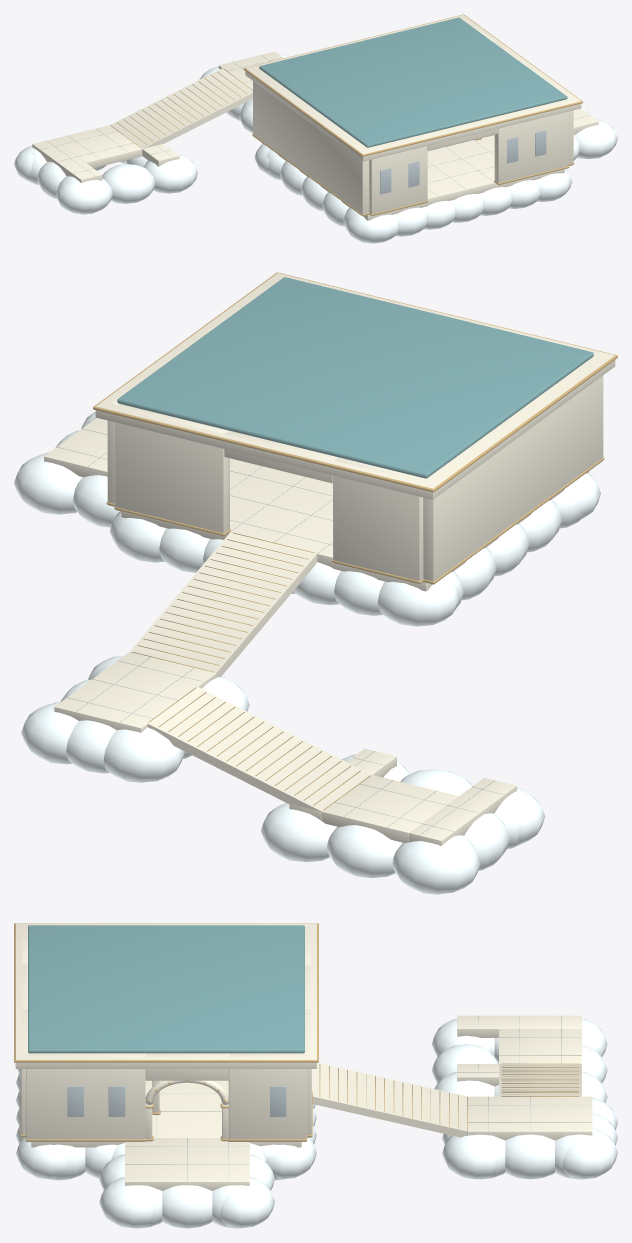
Rendered from sky_sector_sanctuary.glb.
3 views of the same model, one above another, from view 1: azimuth 30°, elevation 25°; view 2: azimuth 150°, elevation 25°; view 3: azimuth 270°, elevation 25° (orthographic). The views are drawn at different scales.
Visible parts, largest first — view 1: sky_sector_sanctuary_surface; view 2: sky_sector_sanctuary_surface; view 3: sky_sector_sanctuary_surface.
Part boxes in pixels (x1,y1,x2,y2): sky_sector_sanctuary_surface: (14,14,617,243); sky_sector_sanctuary_surface: (14,272,617,894); sky_sector_sanctuary_surface: (14,923,617,1228).
Size of the model in its own units: 60.38 by 22.43 by 58.13.
